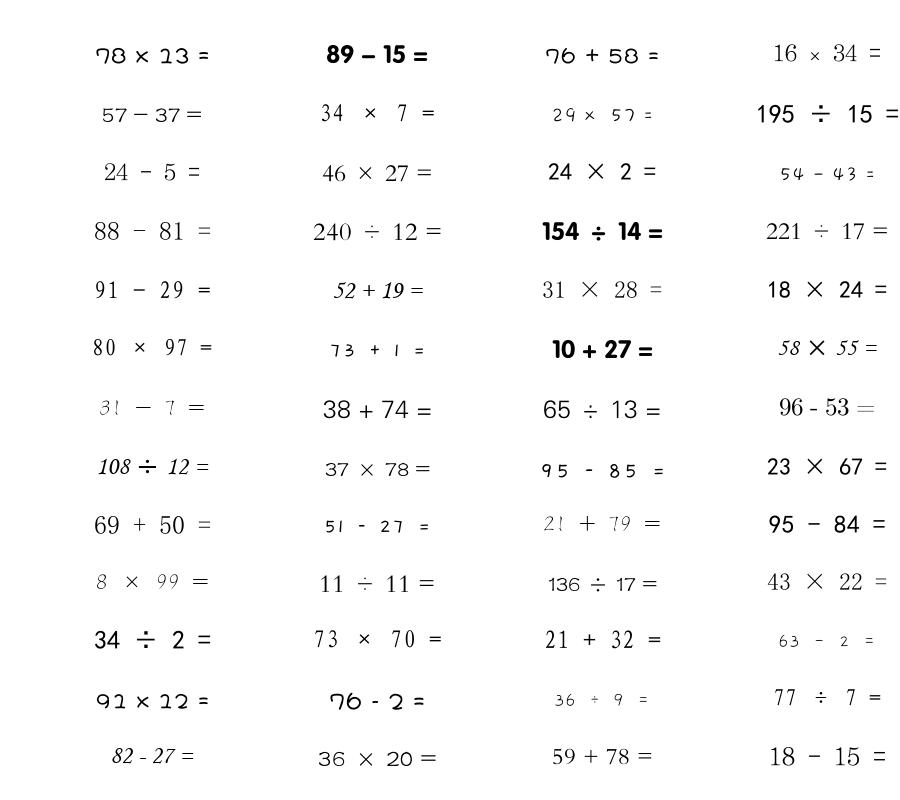MQ: (756, 104, 899, 123), (542, 221, 663, 241), (769, 746, 886, 766), (313, 223, 442, 241), (313, 630, 442, 648), (543, 400, 661, 419), (94, 221, 211, 240), (94, 630, 211, 649), (544, 630, 661, 649), (92, 338, 212, 356), (94, 281, 211, 299), (94, 516, 211, 534), (769, 515, 886, 533), (766, 223, 889, 240), (319, 104, 435, 122), (323, 400, 432, 419), (326, 44, 428, 64), (542, 281, 662, 298), (767, 281, 887, 298), (767, 458, 887, 475), (767, 573, 887, 590), (552, 339, 653, 359), (319, 575, 435, 592), (95, 47, 210, 64), (773, 44, 881, 62), (545, 47, 659, 64), (96, 458, 209, 475), (539, 463, 666, 478), (543, 516, 661, 532), (322, 165, 433, 182), (548, 163, 656, 180), (773, 689, 881, 706), (96, 693, 209, 709), (318, 751, 437, 766), (104, 163, 200, 181), (779, 398, 875, 416), (329, 692, 425, 710), (552, 748, 653, 765), (99, 400, 205, 416), (96, 574, 209, 589), (548, 577, 657, 592), (551, 107, 653, 123), (777, 340, 877, 356), (332, 282, 423, 299), (325, 462, 430, 476), (779, 167, 875, 182), (323, 520, 431, 533), (102, 108, 202, 122), (778, 634, 876, 648), (554, 693, 650, 707), (110, 748, 194, 764), (329, 344, 426, 357)
